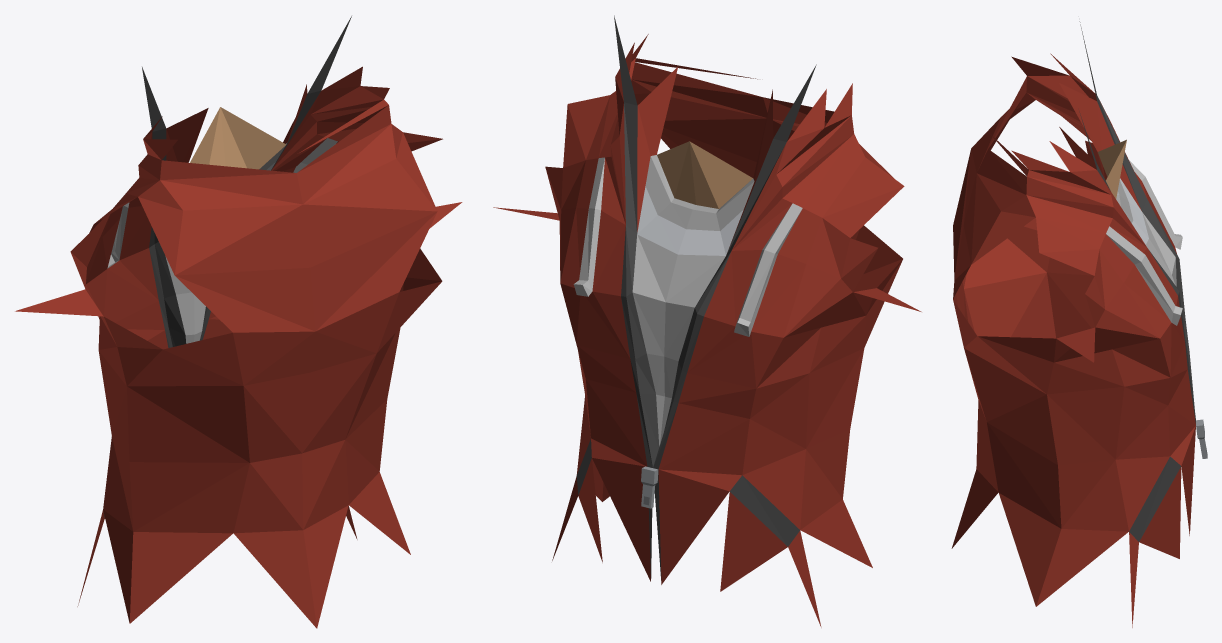
Rendered from Son_01_Torso_0_01_B.obj.
3 renders of one model, left to right at view 1: azimuth 30°, elevation 25°; view 2: azimuth 150°, elevation 25°; view 3: azimuth 270°, elevation 25°, orthographic. The views are drawn at different scales.
Parts seen in each view (by area): view 1: Son_01_Torso_0_01_B; view 2: Son_01_Torso_0_01_B; view 3: Son_01_Torso_0_01_B.
Boxes of the visible parts, x1,y1,x2,y2 form: Son_01_Torso_0_01_B: [15, 16, 462, 628]; Son_01_Torso_0_01_B: [493, 15, 921, 627]; Son_01_Torso_0_01_B: [951, 21, 1207, 627].
Size of the model in its own units: 0.5821 by 0.6905 by 0.3167.
Materials: 1 (1 with a texture image).
